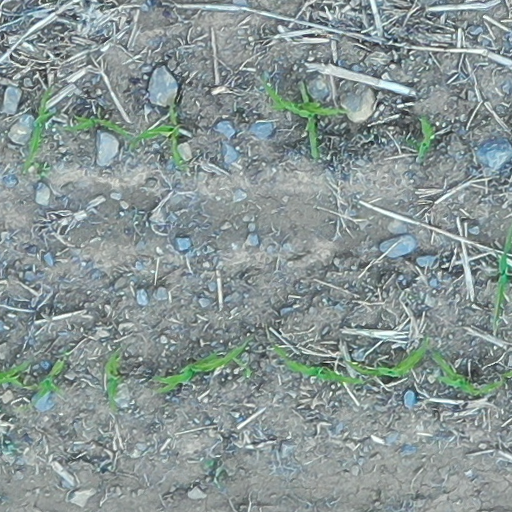planta: (270, 342, 366, 388), (131, 96, 187, 169), (275, 77, 323, 162), (342, 338, 433, 382), (431, 349, 506, 399), (150, 349, 222, 396), (20, 85, 58, 174), (20, 355, 69, 410), (186, 337, 251, 375), (57, 111, 131, 139), (102, 343, 125, 414), (413, 111, 435, 161), (6, 379, 14, 387)
